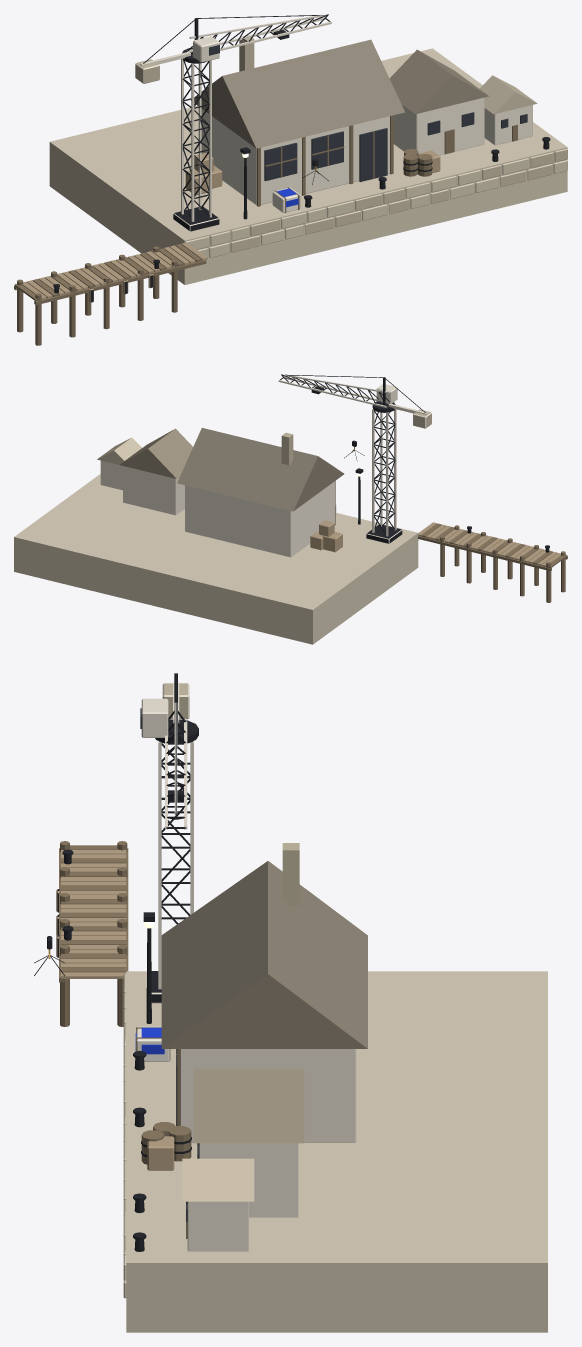
File: dock.glb
3 views of the same model, one above another, from view 1: azimuth 30°, elevation 25°; view 2: azimuth 150°, elevation 25°; view 3: azimuth 270°, elevation 25° (orthographic). The views are drawn at different scales.
Parts seen in each view (by area): view 1: QuayBlock, WorkshopRoof, Sheds, Workshop, QuayStones, Jetty, CraneTower, CraneJib, QuayProps, WorkshopWindow_0, WorkshopWindow_1, CraneCrateBody; view 2: QuayBlock, WorkshopRoof, Workshop, Sheds, Jetty, CraneTower, CraneJib, QuayProps; view 3: QuayBlock, WorkshopRoof, Sheds, Jetty, Workshop, CraneJib, QuayProps, CraneTower, QuayStones, CraneCrateBody.
Boxes of the visible parts, x1=… form: QuayBlock: x1=49, y1=48, x2=567, y2=284; WorkshopRoof: x1=190, y1=39, x2=404, y2=148; Sheds: x1=389, y1=49, x2=537, y2=155; Workshop: x1=201, y1=35, x2=393, y2=206; QuayStones: x1=185, y1=148, x2=567, y2=257; Jetty: x1=14, y1=243, x2=207, y2=345; CraneTower: x1=173, y1=59, x2=219, y2=231; CraneJib: x1=135, y1=14, x2=331, y2=83; QuayProps: x1=185, y1=137, x2=550, y2=219; WorkshopWindow_0: x1=264, y1=143, x2=297, y2=181; WorkshopWindow_1: x1=311, y1=131, x2=344, y2=169; CraneCrateBody: x1=272, y1=187, x2=300, y2=212; QuayBlock: x1=14, y1=474, x2=418, y2=644; WorkshopRoof: x1=177, y1=428, x2=344, y2=511; Workshop: x1=185, y1=432, x2=335, y2=557; Sheds: x1=97, y1=428, x2=192, y2=515; Jetty: x1=418, y1=522, x2=567, y2=602; CraneTower: x1=366, y1=408, x2=402, y2=543; CraneJib: x1=278, y1=374, x2=431, y2=428; QuayProps: x1=310, y1=468, x2=363, y2=552; QuayBlock: x1=126, y1=971, x2=547, y2=1332; WorkshopRoof: x1=161, y1=861, x2=367, y2=1048; Sheds: x1=182, y1=1068, x2=304, y2=1251; Jetty: x1=56, y1=841, x2=128, y2=1026; Workshop: x1=176, y1=843, x2=356, y2=1142; CraneJib: x1=140, y1=673, x2=198, y2=829; QuayProps: x1=133, y1=912, x2=191, y2=1251; CraneTower: x1=151, y1=740, x2=193, y2=1003; QuayStones: x1=123, y1=973, x2=126, y2=1298; CraneCrateBody: x1=135, y1=1026, x2=170, y2=1061.
Size of the model in its own units: 26 by 11.36 by 13.41.
